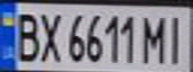1: (118, 11, 139, 63), (103, 11, 121, 63)
6: (63, 9, 87, 63), (84, 10, 106, 63)
B: (9, 8, 42, 63)
I: (163, 11, 193, 65)
M: (139, 11, 172, 64)
X: (36, 8, 63, 63)
